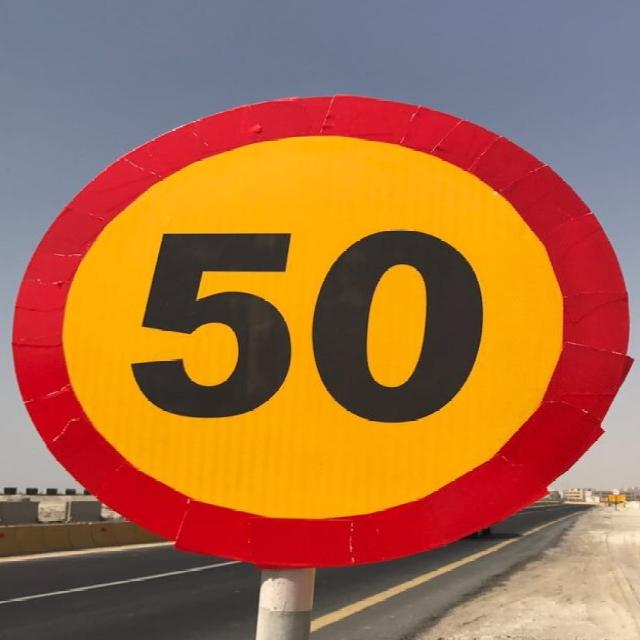Limite-50: (13, 92, 632, 570)
